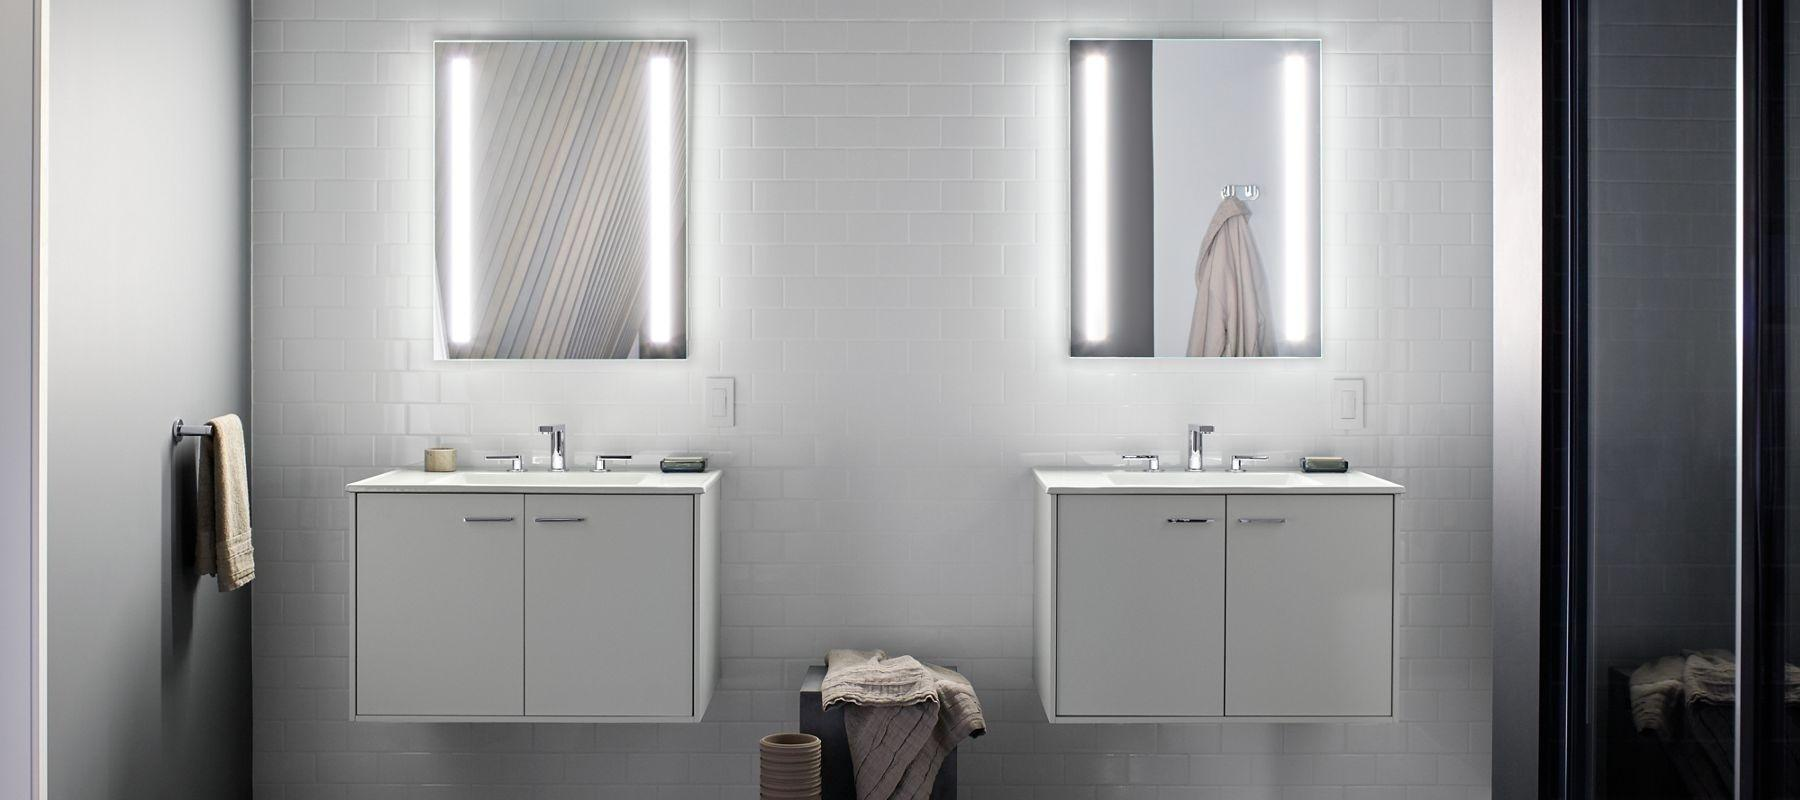cabinet_door: (359, 490, 526, 721), (1054, 492, 1220, 721), (526, 494, 691, 721), (1227, 492, 1390, 717)
handle: (1158, 512, 1217, 535), (456, 511, 515, 533), (1234, 512, 1293, 533), (532, 511, 593, 530)
